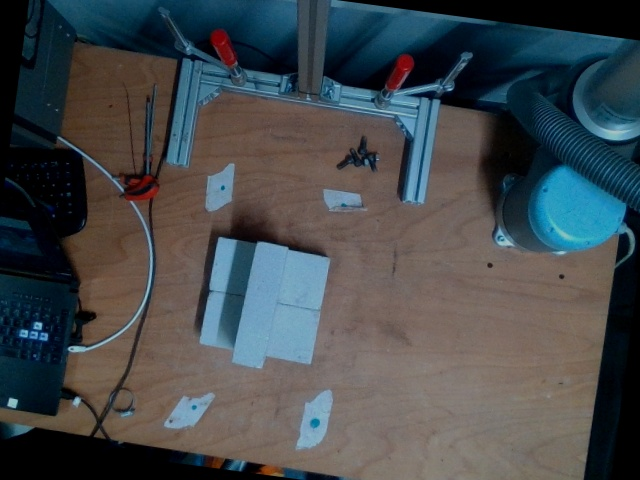brick-side: (230, 241, 288, 367)
